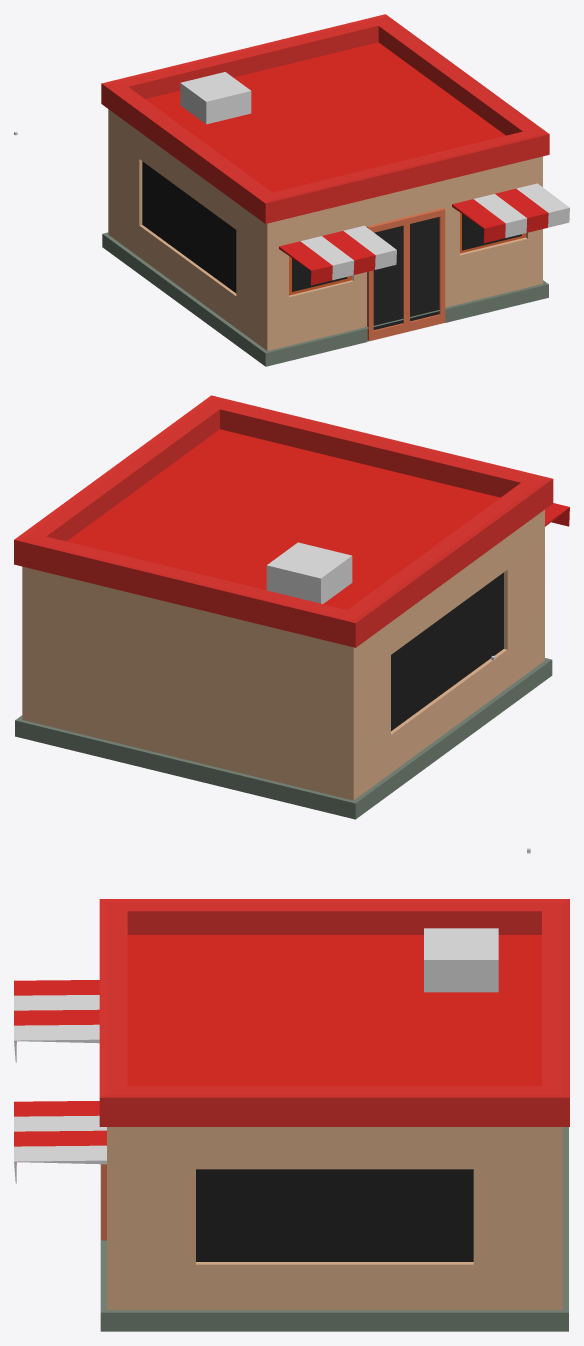
File: loja1.fbx
3 views of the same model, one above another, from view 1: azimuth 30°, elevation 25°; view 2: azimuth 150°, elevation 25°; view 3: azimuth 270°, elevation 25° (orthographic). The views are drawn at different scales.
Visible parts, largest first — view 1: Cube, Cube.002, Cube.005, Cube.004, Cube.001; view 2: Cube, Cube.001; view 3: Cube, Cube.004, Cube.005, Cube.001.
Boxes of the visible parts, left/top/right/bottom form: Cube: left=14, top=14, right=549, bottom=366; Cube.002: left=367, top=208, right=445, bottom=341; Cube.005: left=279, top=225, right=396, bottom=285; Cube.004: left=452, top=183, right=569, bottom=243; Cube.001: left=180, top=72, right=251, bottom=124; Cube: left=14, top=395, right=553, bottom=819; Cube.001: left=266, top=542, right=352, bottom=603; Cube: left=99, top=848, right=569, bottom=1331; Cube.004: left=14, top=1101, right=106, bottom=1183; Cube.005: left=14, top=980, right=99, bottom=1062; Cube.001: left=424, top=928, right=498, bottom=992.
Bounding box in the file's own units: 33290 × 13979 × 29028.
